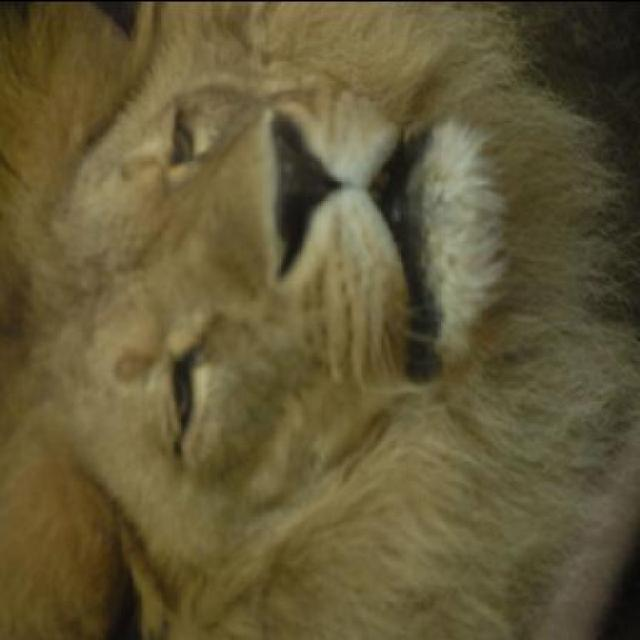Lion: (9, 3, 638, 635)
